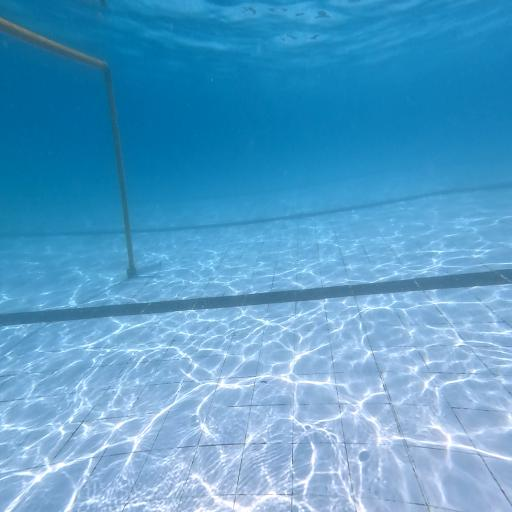gate: (0, 18, 161, 277)
